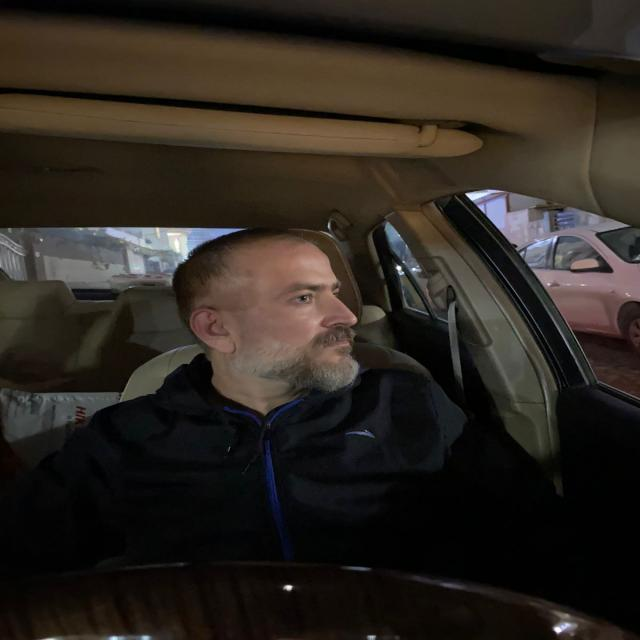LeftRight: (176, 227, 372, 405)
